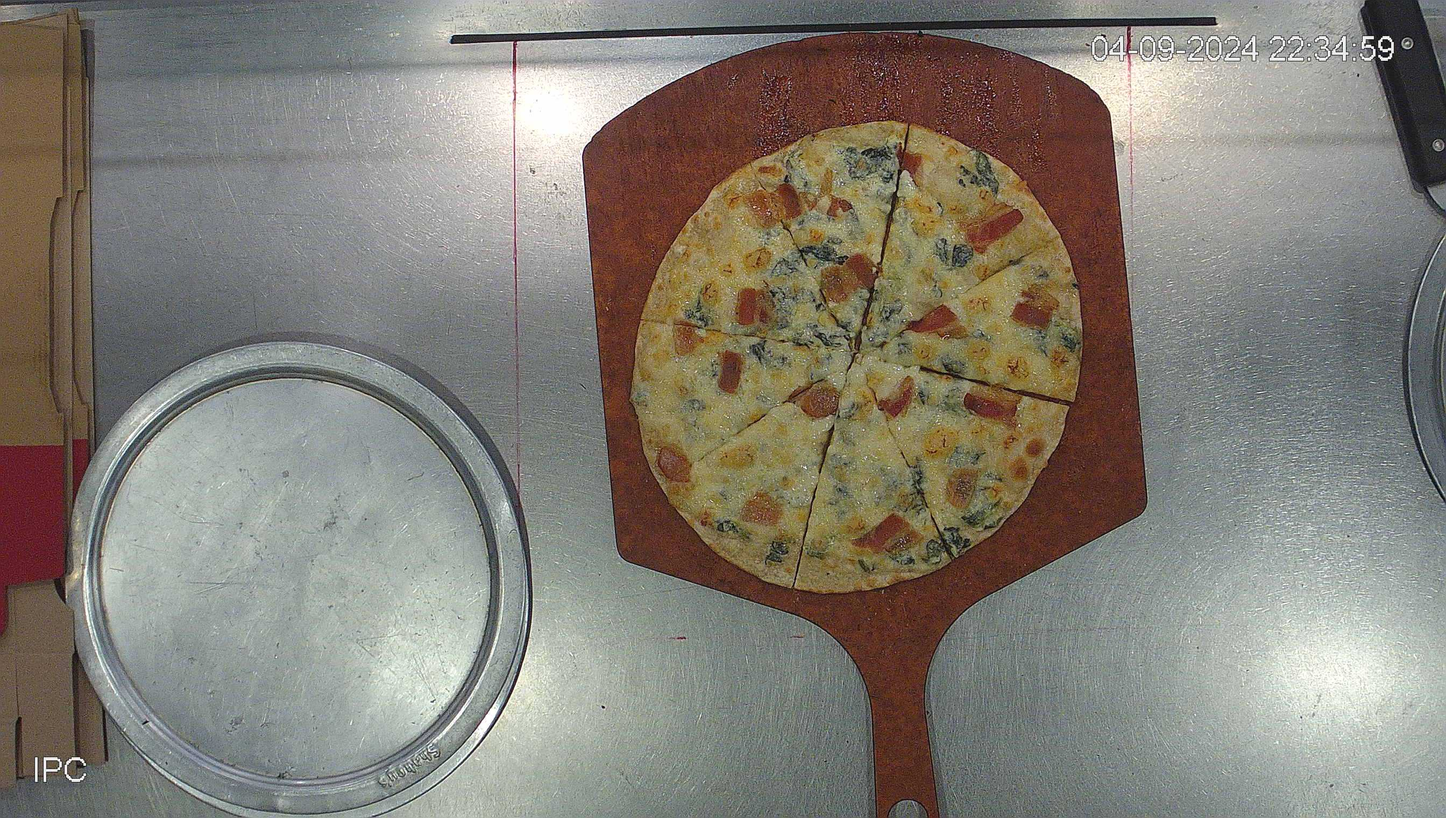pepporoni: (634, 120, 1084, 594)
